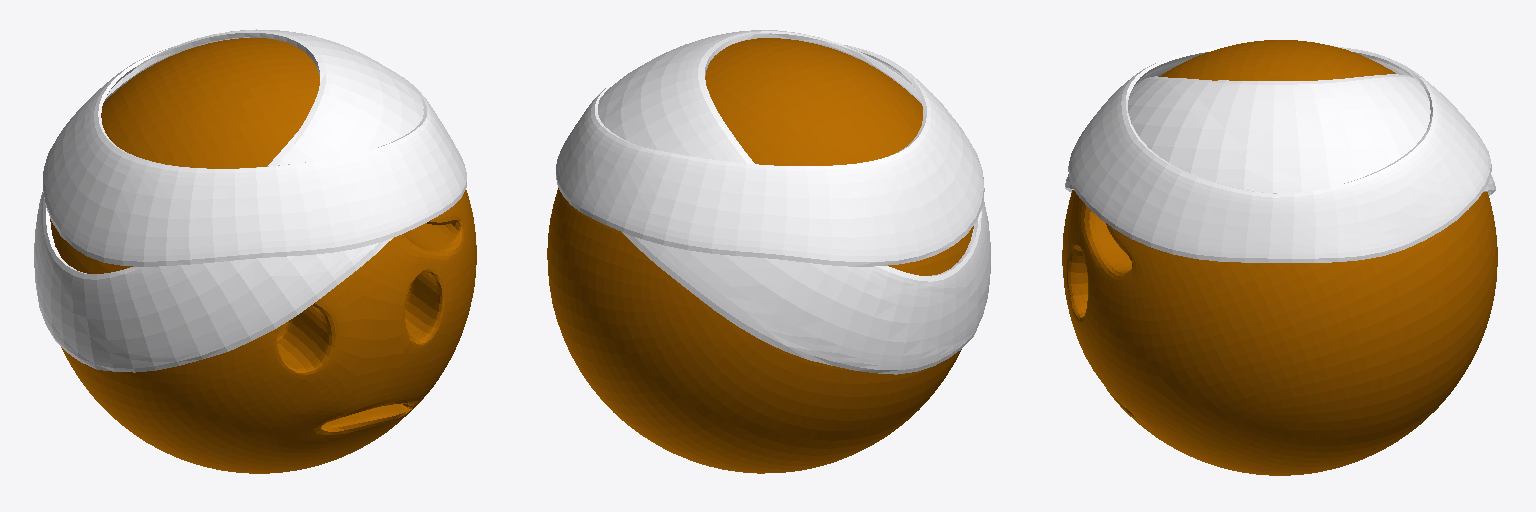
Rendered from bandage.obj.
3 views of the same model, side by side, from view 1: azimuth 30°, elevation 25°; view 2: azimuth 150°, elevation 25°; view 3: azimuth 270°, elevation 25° (orthographic).
Parts seen in each view (by area): view 1: Group50555, Group15994, Group29873; view 2: Group50555, Group15994, Group29873; view 3: Group50555, Group15994, Group29873.
Boxes of the visible parts, box(x1,y1,x2,y2) form: Group50555: box(50, 38, 476, 473); Group15994: box(43, 47, 466, 266); Group29873: box(34, 29, 423, 372); Group50555: box(547, 38, 973, 473); Group15994: box(556, 45, 984, 266); Group29873: box(598, 30, 990, 374); Group50555: box(1062, 40, 1497, 475); Group15994: box(1068, 46, 1491, 262); Group29873: box(1065, 74, 1495, 195).
Bounding box in the file's own units: 22.55 × 22.29 × 22.22.